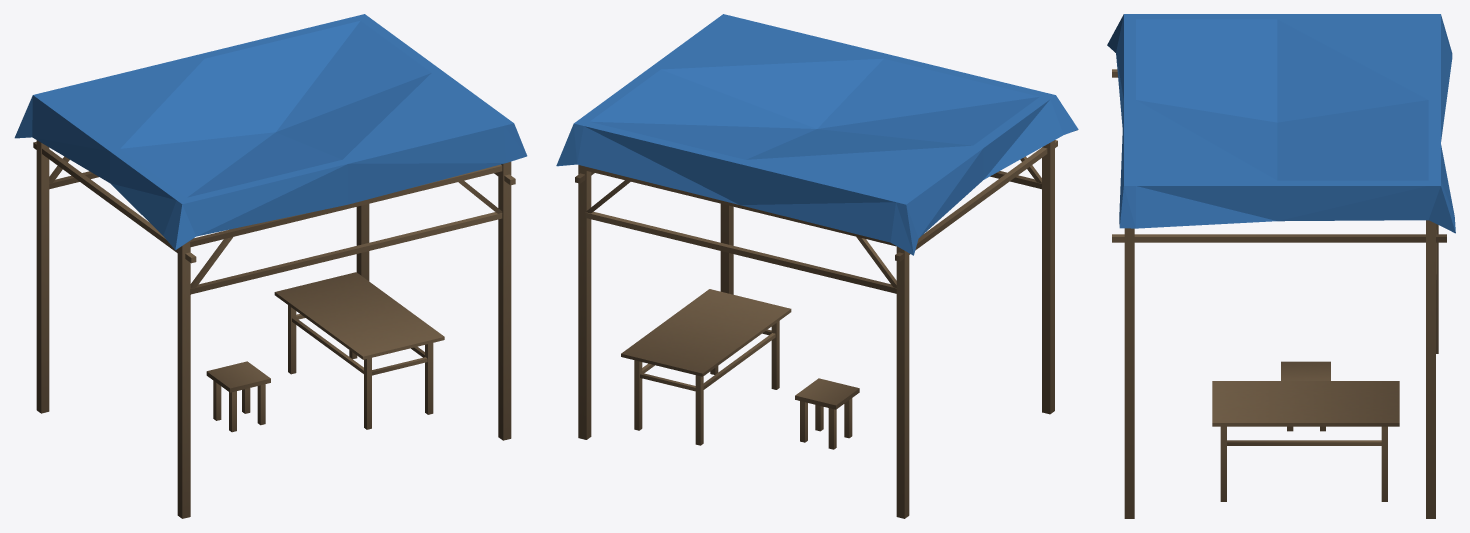
Rendered from ZLP_Build_D_14.FBX.
3 renders of one model, left to right at view 1: azimuth 30°, elevation 25°; view 2: azimuth 150°, elevation 25°; view 3: azimuth 270°, elevation 25°, orthographic. The views are drawn at different scales.
Parts seen in each view (by area): view 1: ZLP_Build_D_14; view 2: ZLP_Build_D_14; view 3: ZLP_Build_D_14.
Part boxes in pixels (<box>): ZLP_Build_D_14: <box>14,14,527,518</box>; ZLP_Build_D_14: <box>556,14,1078,518</box>; ZLP_Build_D_14: <box>1107,14,1455,518</box>.
Size of the model in its own units: 198 by 166 by 157.
